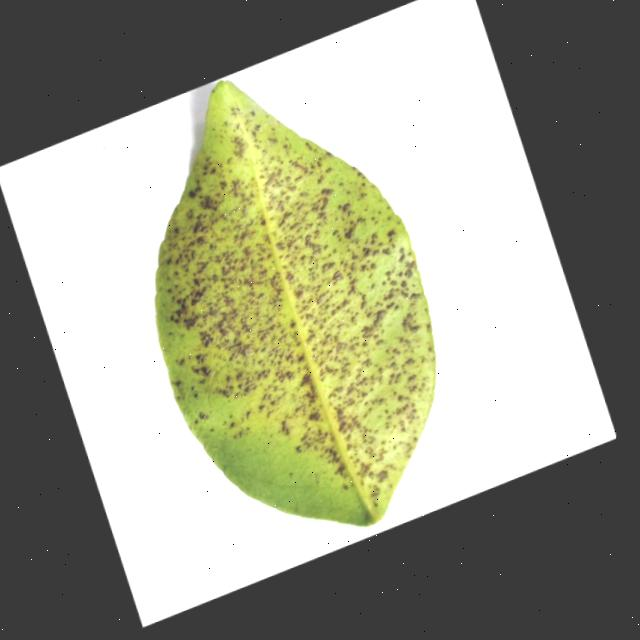melanose: (154, 81, 435, 526)
